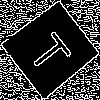T: (25, 24, 80, 77)
